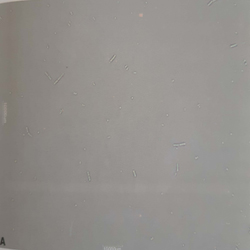Bacteria: (21, 124, 36, 141), (172, 136, 187, 151), (170, 162, 185, 177), (51, 72, 65, 87), (105, 49, 118, 65), (83, 169, 94, 184), (42, 68, 52, 83), (227, 39, 238, 51), (130, 165, 138, 181), (71, 87, 80, 97), (57, 105, 65, 116), (123, 64, 129, 73)
